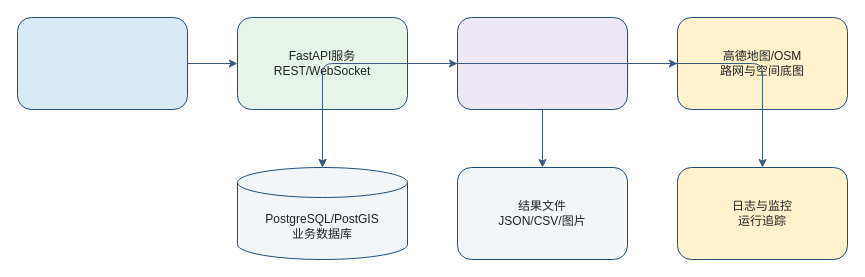
Some shapes in this 865 by 277 pixel diagram are drawn without their labels. Here are the shapes that lost their labels. From the top down, the centre of each, then its label:
At pixel 102 63: "Vue3前端 驾驶舱视图".
At pixel 542 63: "优化服务 Gurobi/XGBoost".
